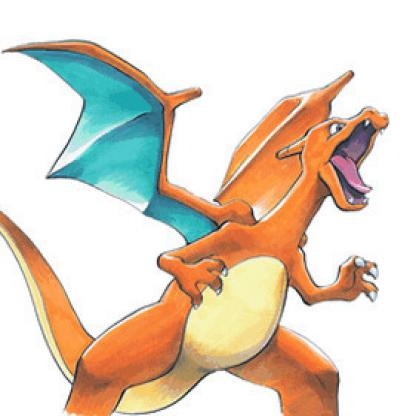Charizard: (1, 19, 416, 408)
